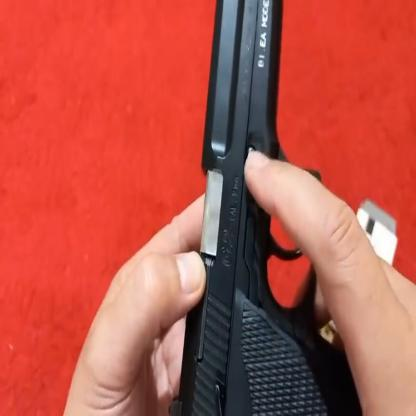handgun: (182, 0, 366, 416)
